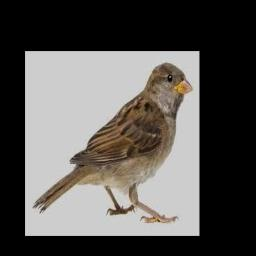Sparrow: (33, 63, 193, 223)
